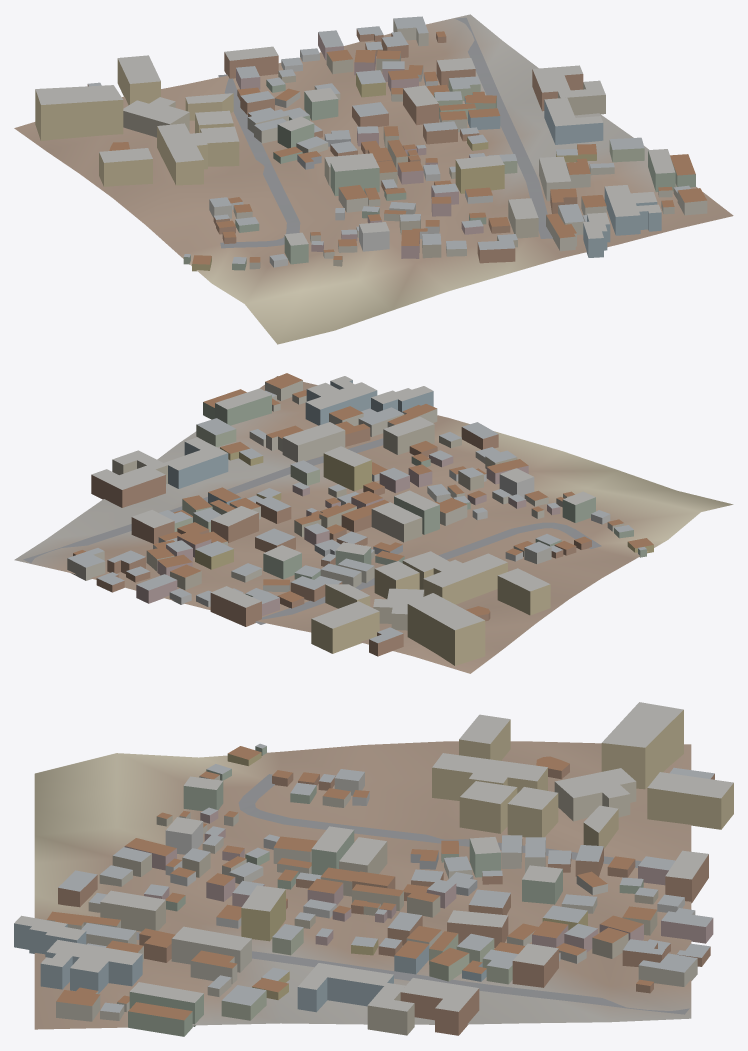
3 renders of one model, top to bottom at view 1: azimuth 30°, elevation 25°; view 2: azimuth 150°, elevation 25°; view 3: azimuth 270°, elevation 25°, orthographic. The views are drawn at different scales.
Parts seen in each view (by area): view 1: Lo; view 2: Lo; view 3: Lo.
Part boxes in pixels (x1=…): Lo: x1=14, y1=14, x2=733, y2=344; Lo: x1=14, y1=373, x2=733, y2=673; Lo: x1=14, y1=702, x2=733, y2=1036.
Size of the model in its own units: 267 by 32.36 by 281.
